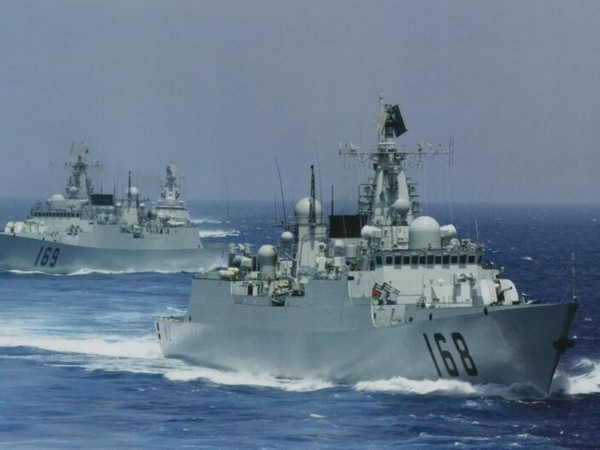warship: (143, 97, 591, 395), (1, 140, 236, 273)
